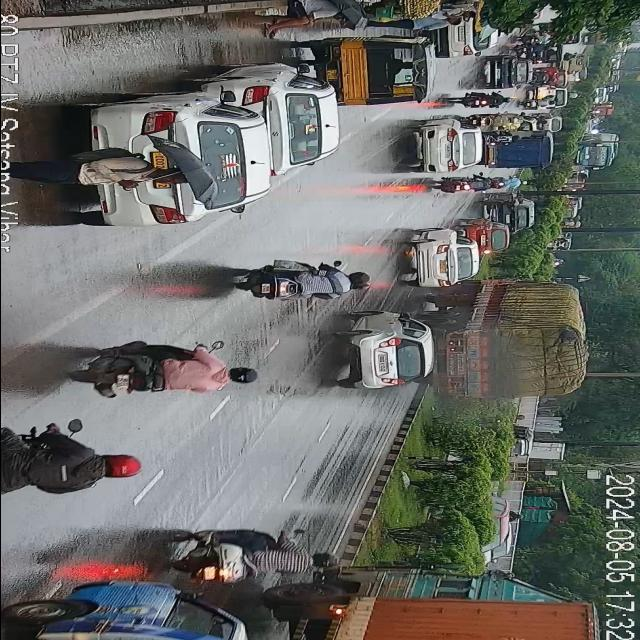2-wheelers: (68, 336, 264, 405), (0, 416, 139, 512), (174, 528, 336, 581), (229, 257, 369, 305), (430, 176, 504, 192), (452, 94, 512, 110), (462, 116, 518, 127), (484, 176, 522, 192), (483, 134, 521, 144), (522, 98, 556, 108), (514, 44, 554, 52), (518, 98, 554, 106), (520, 34, 556, 42), (528, 76, 554, 86)
auto: (312, 37, 432, 107), (483, 133, 551, 171), (504, 426, 534, 458), (535, 50, 563, 64)
bus: (576, 134, 617, 166)
car: (106, 90, 266, 228), (225, 68, 339, 170), (342, 312, 436, 398), (403, 224, 479, 290), (409, 116, 479, 180), (440, 16, 496, 59), (482, 52, 530, 92), (460, 219, 509, 255), (486, 197, 533, 224), (540, 112, 564, 132), (531, 87, 566, 99), (540, 66, 564, 76)
pedestrian: (11, 159, 194, 187), (255, 0, 352, 42), (365, 14, 461, 30), (440, 8, 476, 18)
truck: (261, 564, 604, 640), (418, 280, 594, 410), (0, 579, 266, 640)
